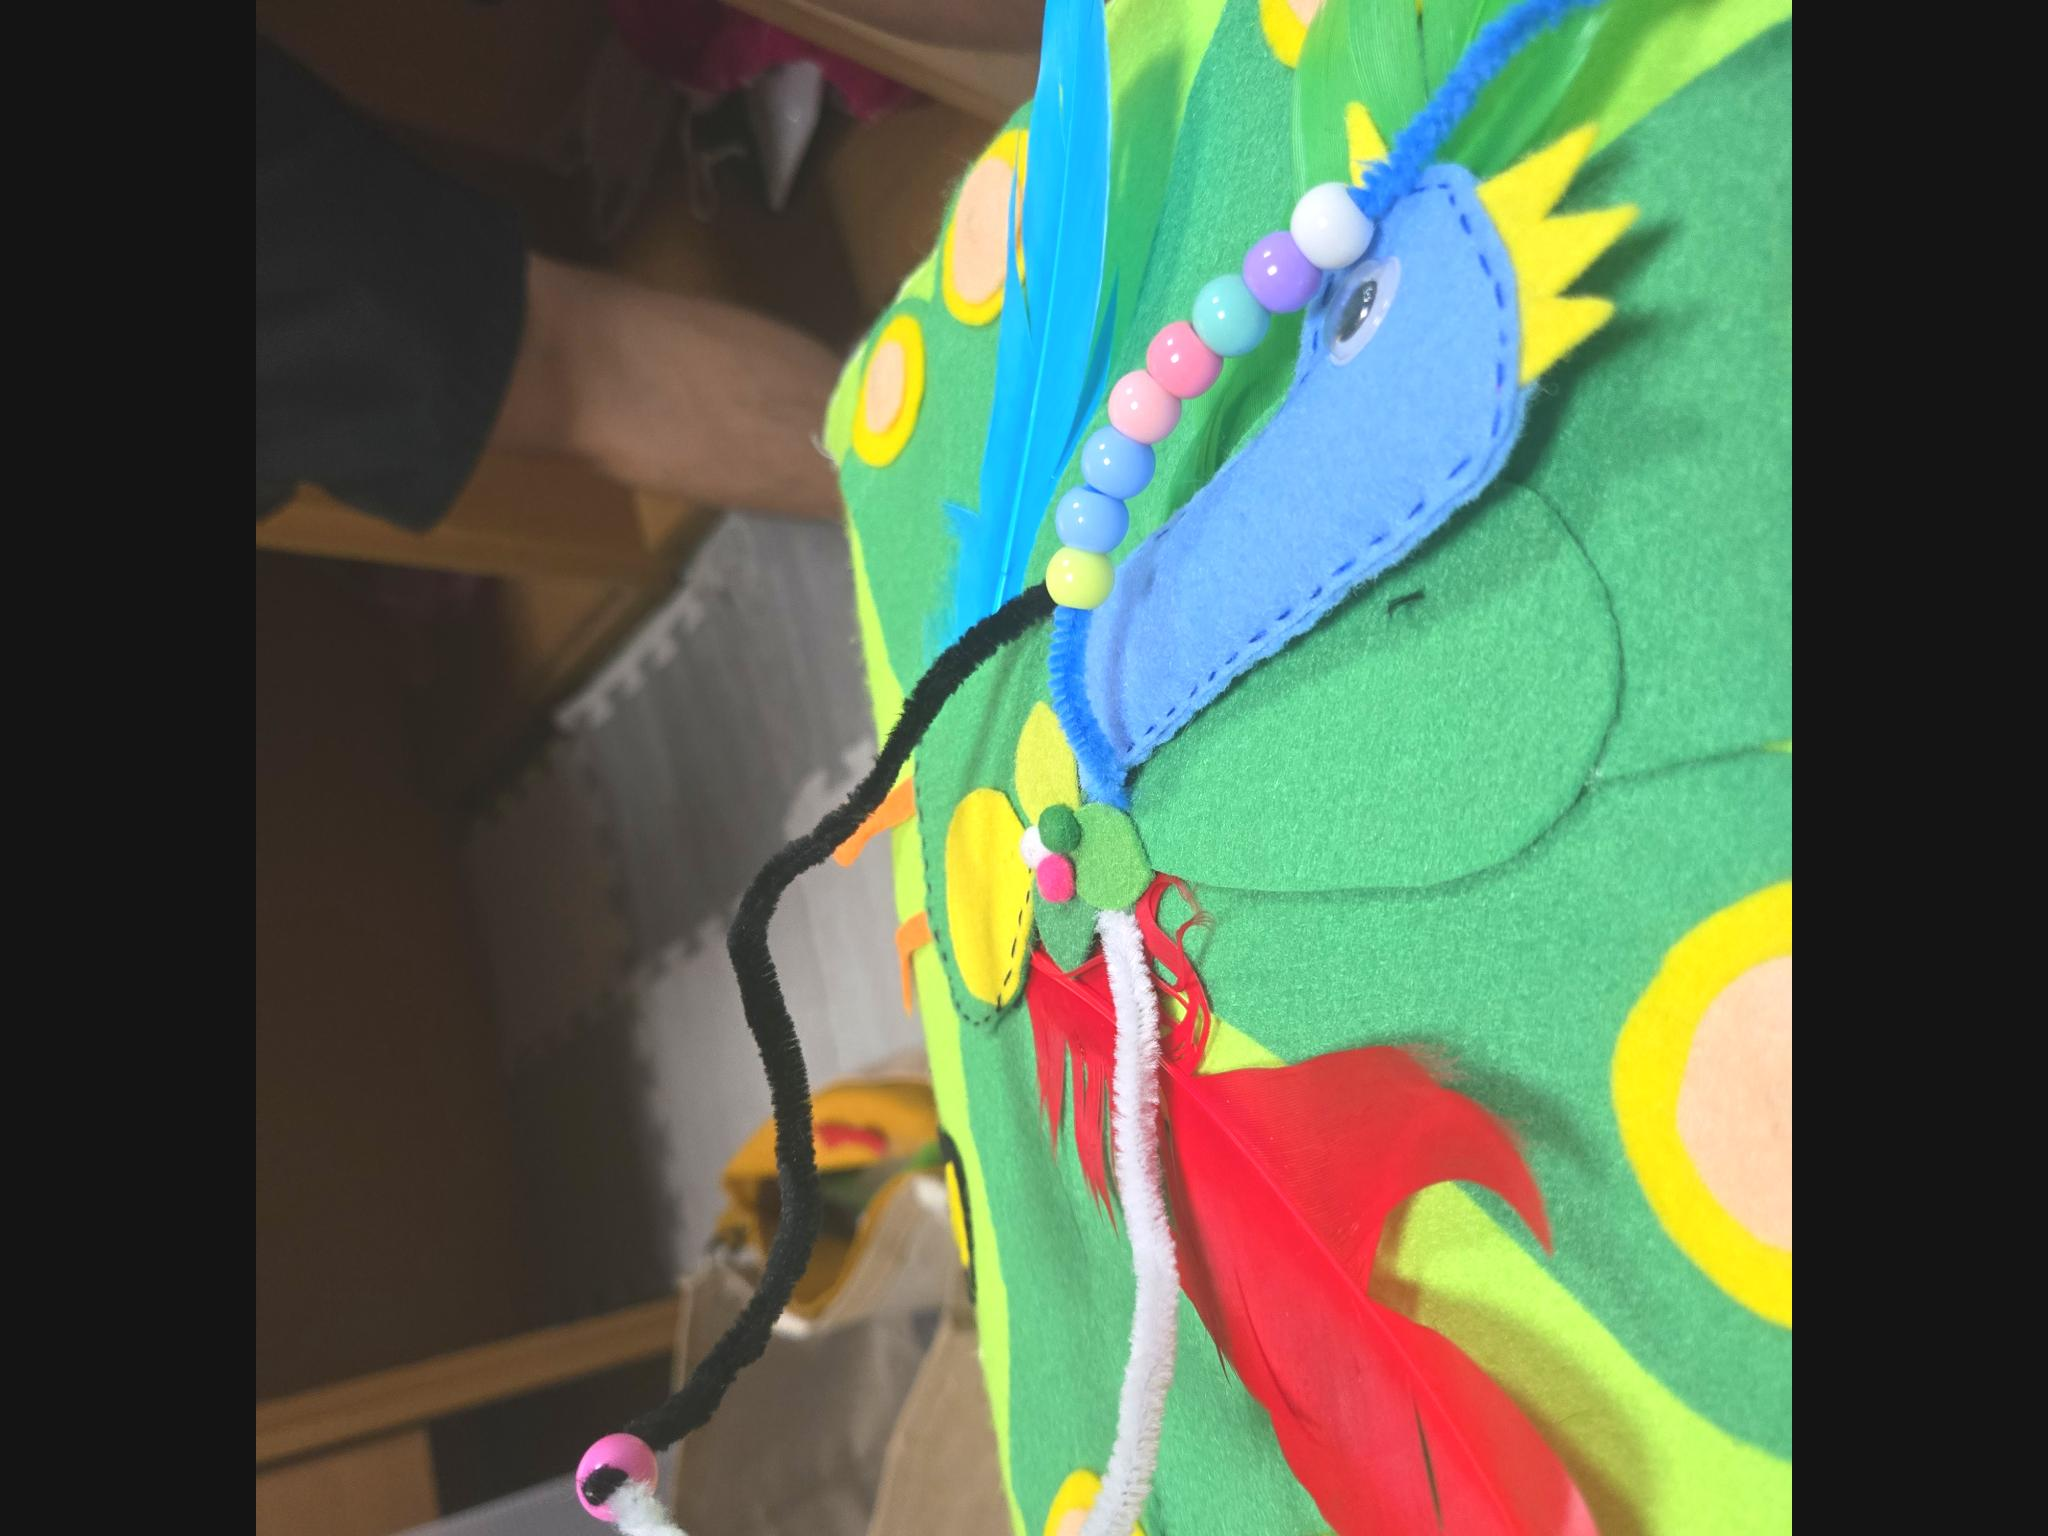bead: (545, 1426, 672, 1515), (1226, 244, 1321, 311), (1293, 181, 1377, 255), (1103, 386, 1197, 450), (1190, 271, 1251, 368), (1032, 547, 1129, 603), (1077, 444, 1163, 507), (1053, 494, 1140, 553), (1155, 326, 1216, 399)
